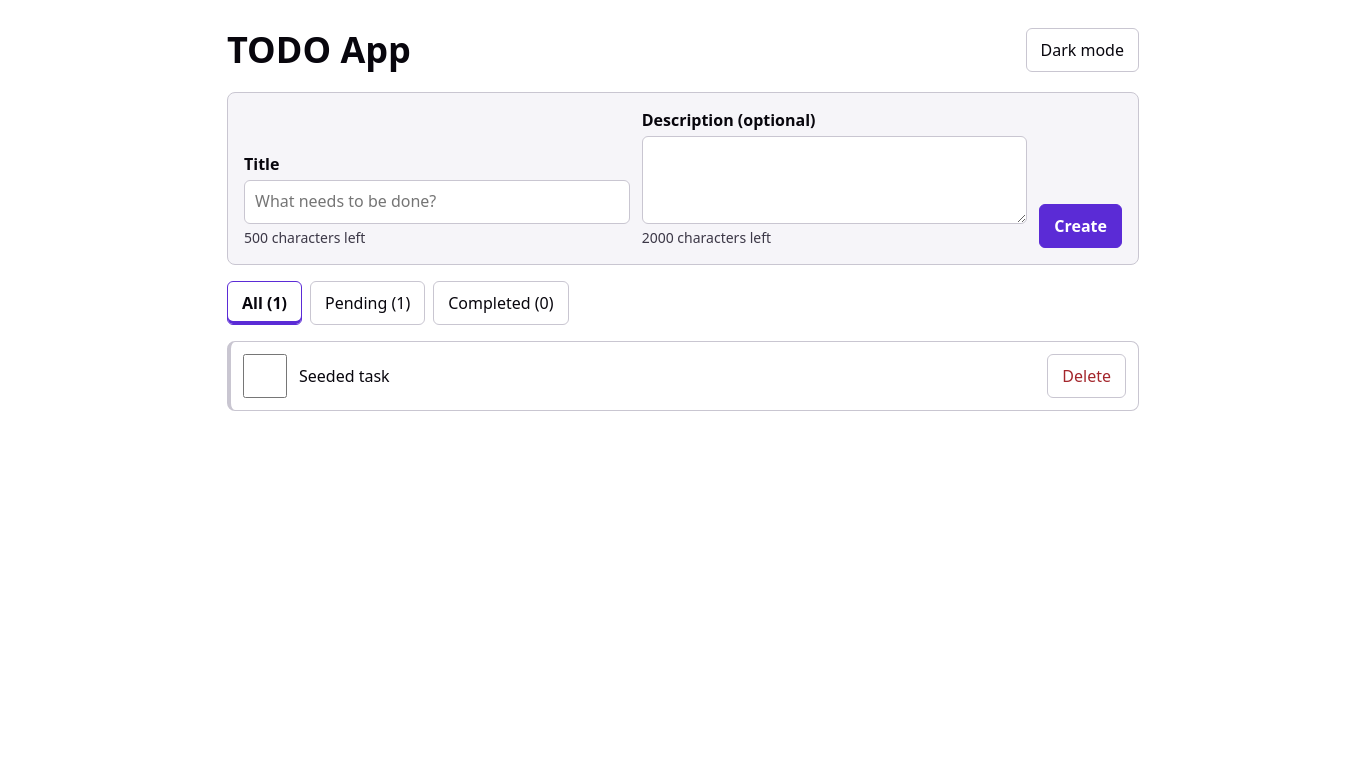
Test: localStorage integration › edit then sync: an edited title is written to localStorage immediately
The width and height of the screenshot is (1366, 768).
Click the button with test id "task-title". click: (344, 376)
box: [299,354,390,398]
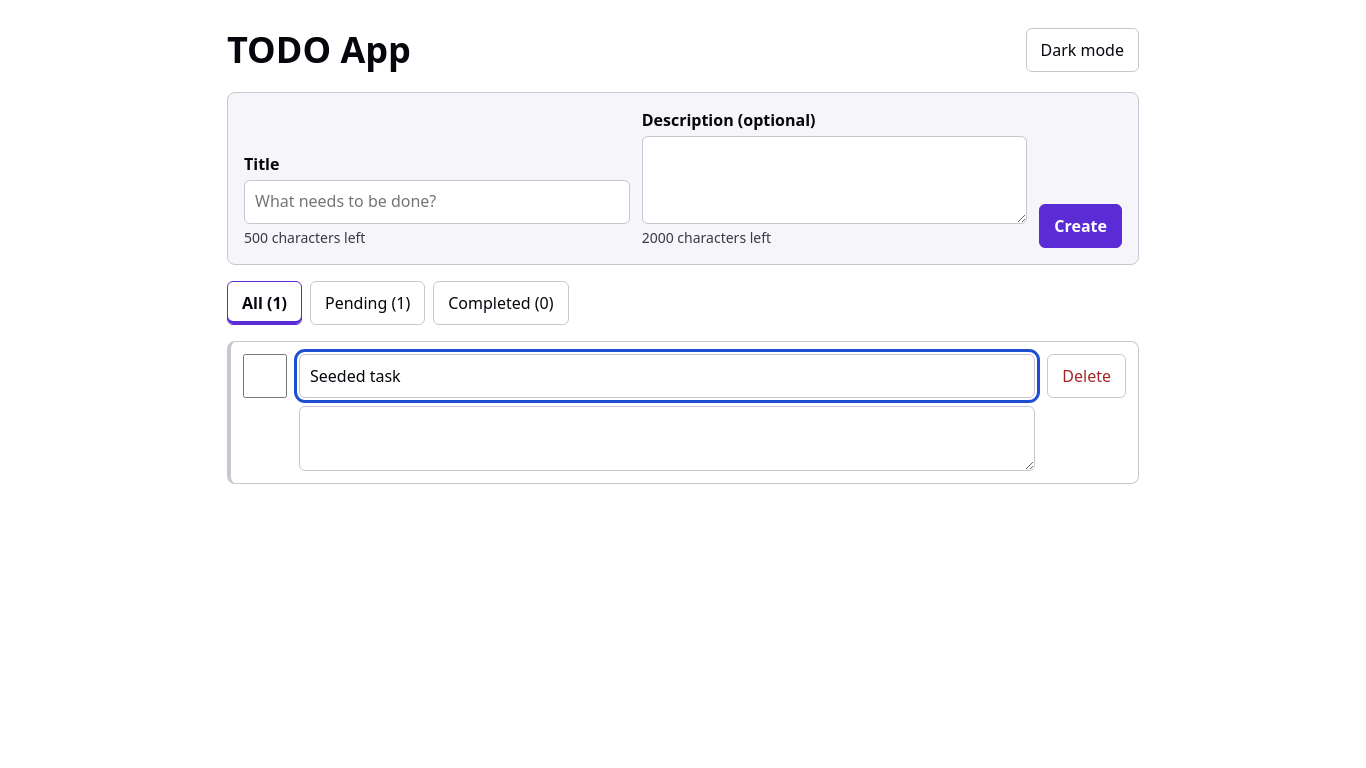
Replace the text in the field with test id "edit-title-input" with "Edited title". click: (667, 376)
box: [299,354,1035,398]
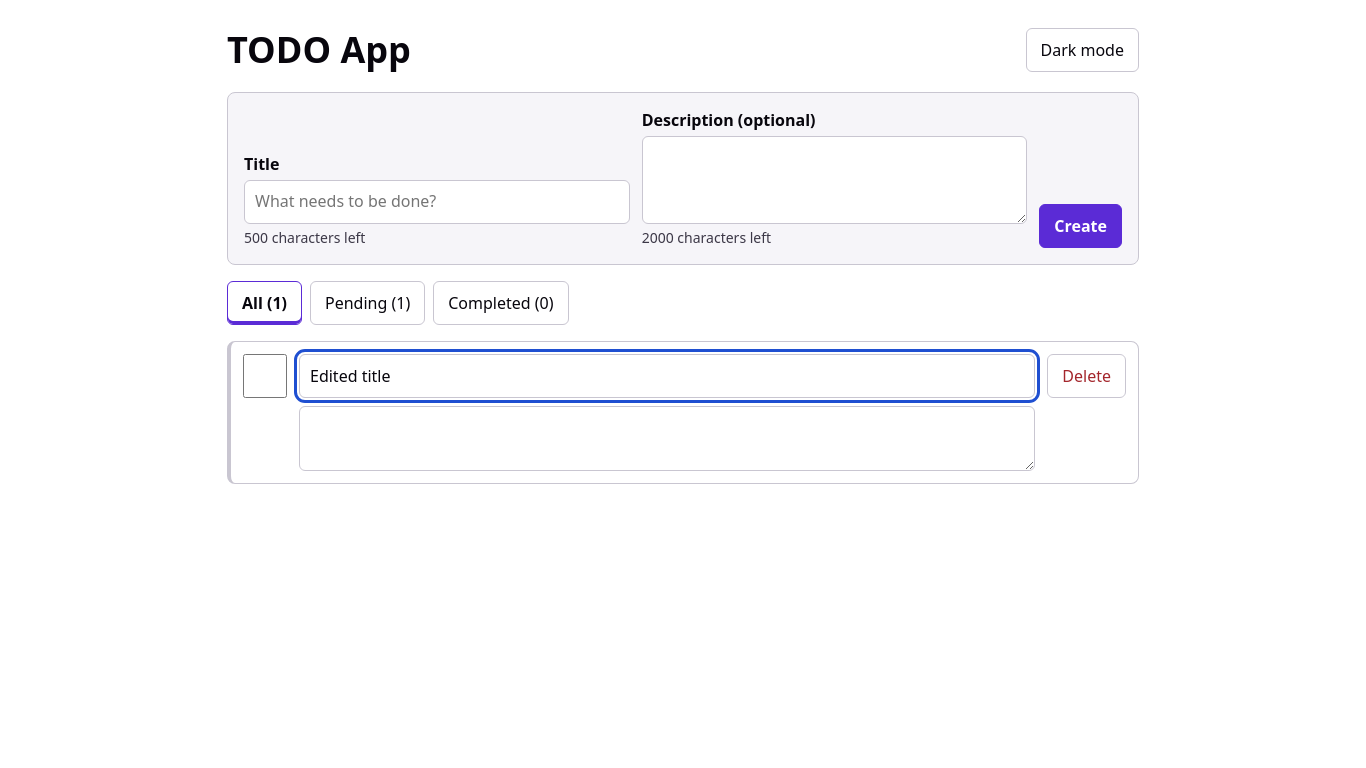
// Clicking outside the row blurs the edit area, which saves it.
Click the element that starts with "TODO App". click: (683, 384)
box: [0,0,1365,767]
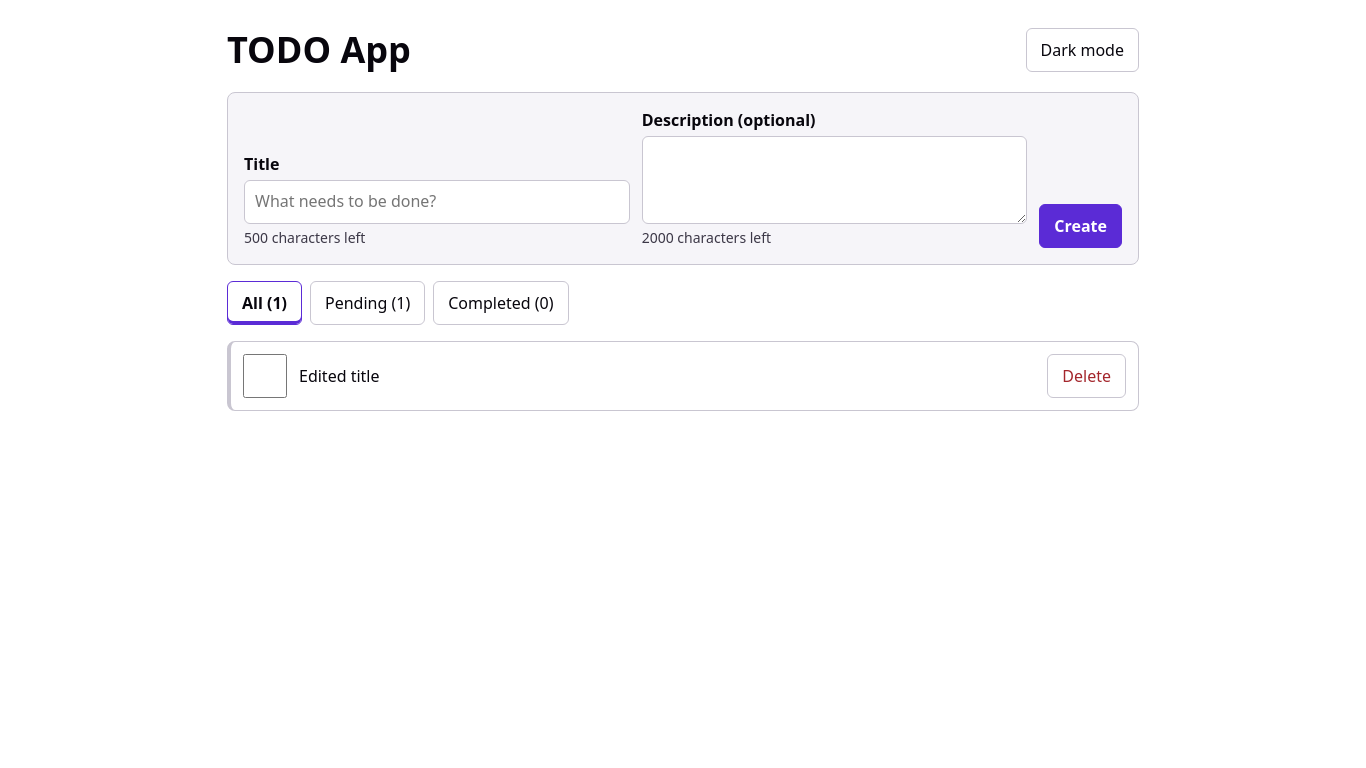
Expected: the button "Edited title" is shown, [299,354,380,398]
